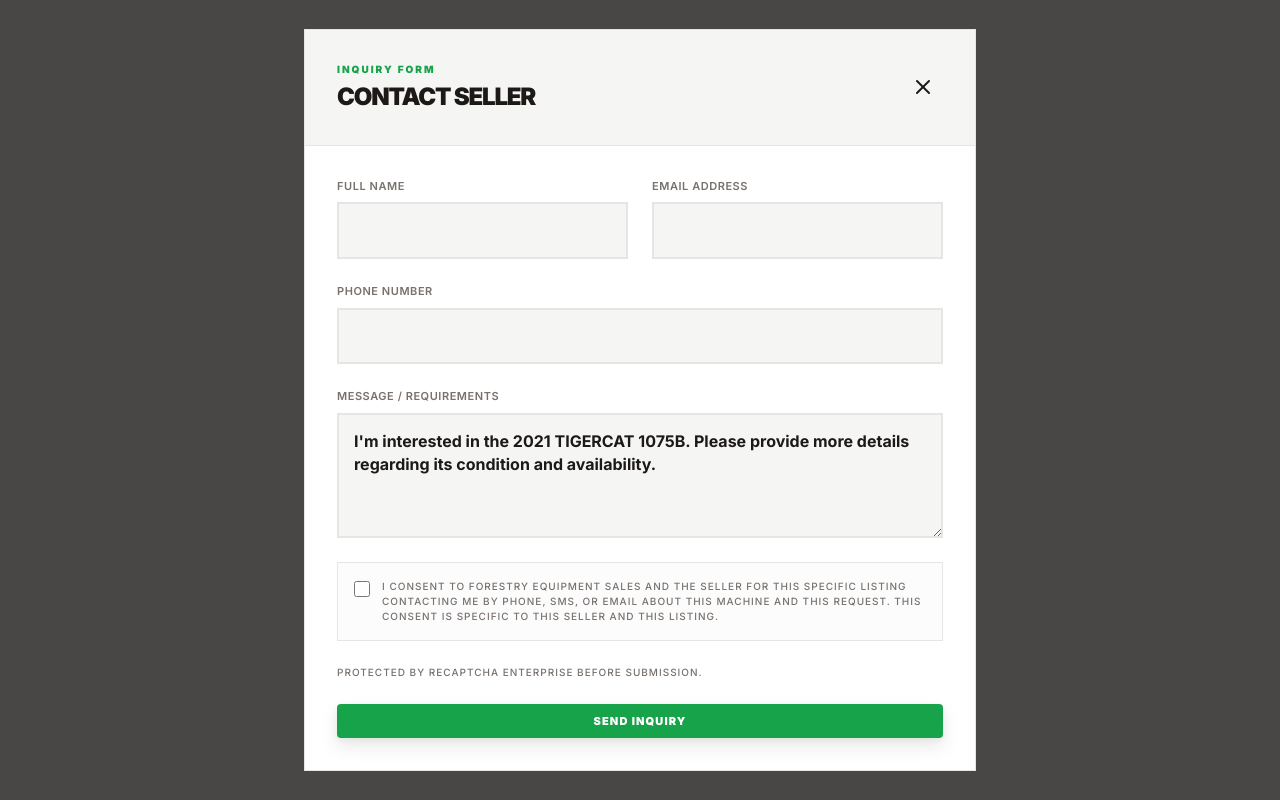
Test case: InquiryModal component › submits the inquiry and shows the success state after consent is accepted
Type "Caleb Happy" into the field labelled "Full Name" at (482, 231), box [337,202,628,259]
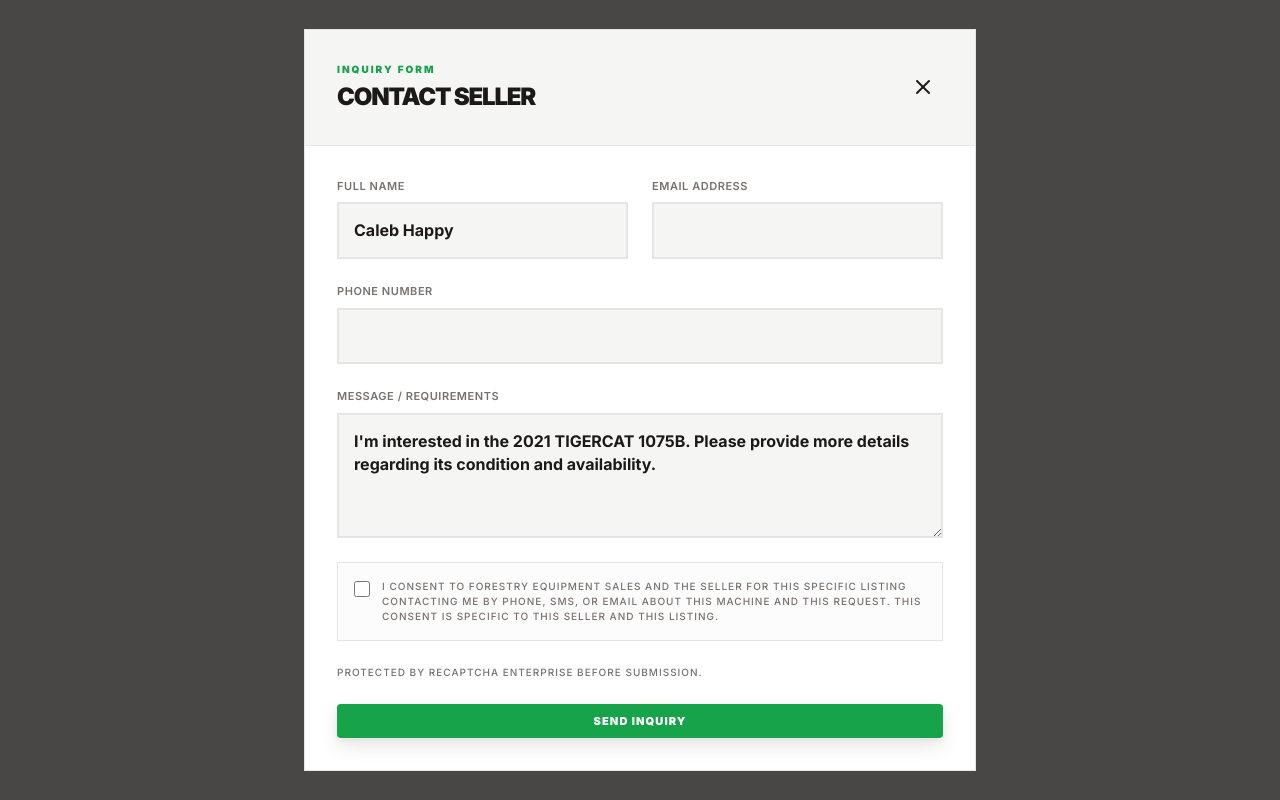
Type "admin@example.com" into the field labelled "Email Address" at (798, 231), box [652,202,943,259]
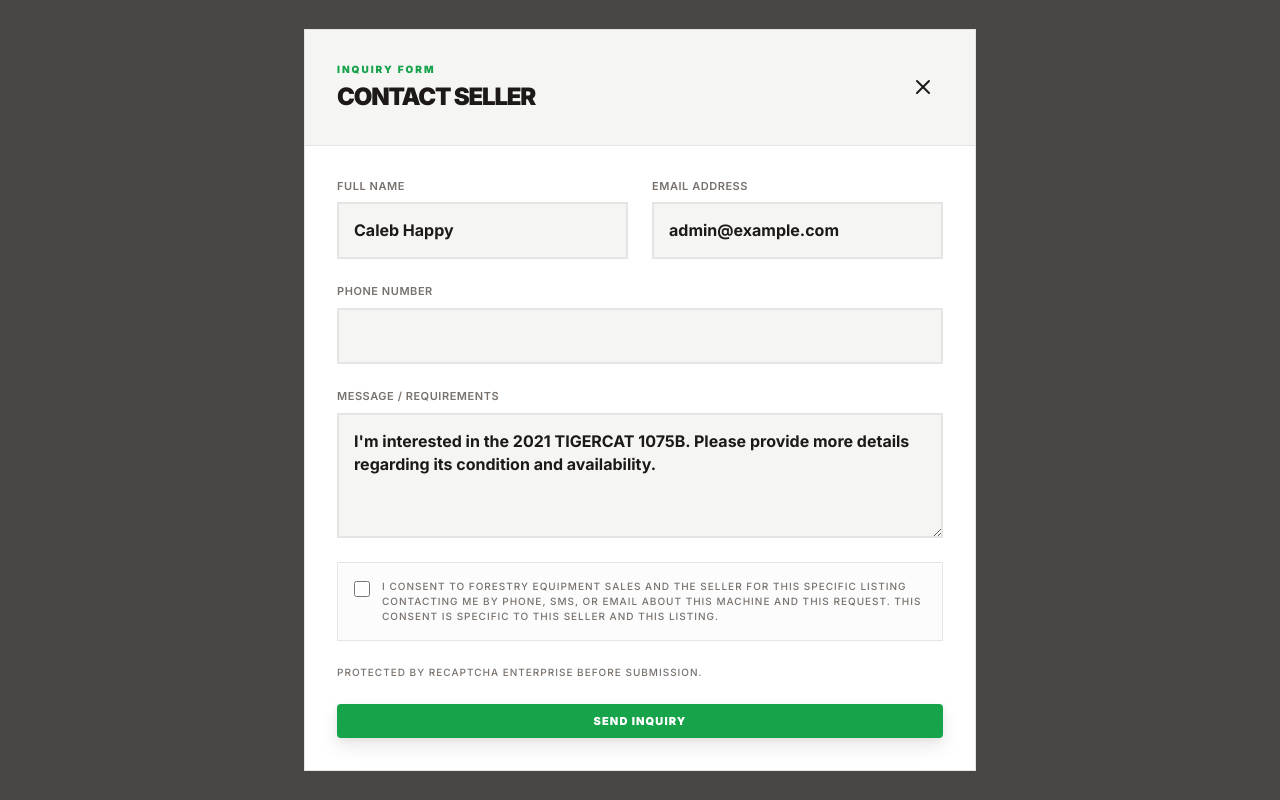
Type "+12187200933" into the field labelled "Phone Number" at (640, 336), box [337,308,943,364]
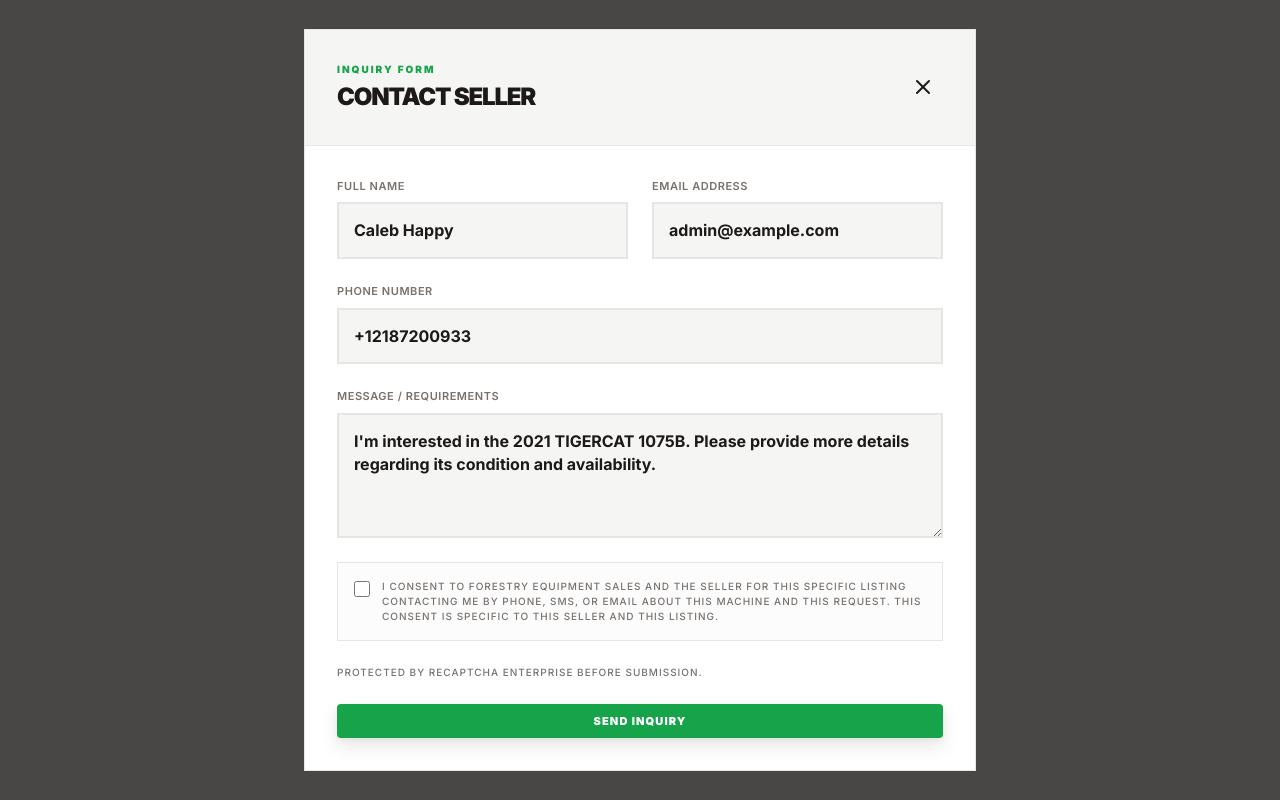
Click the checkbox at (362, 589), box [354,581,370,597]
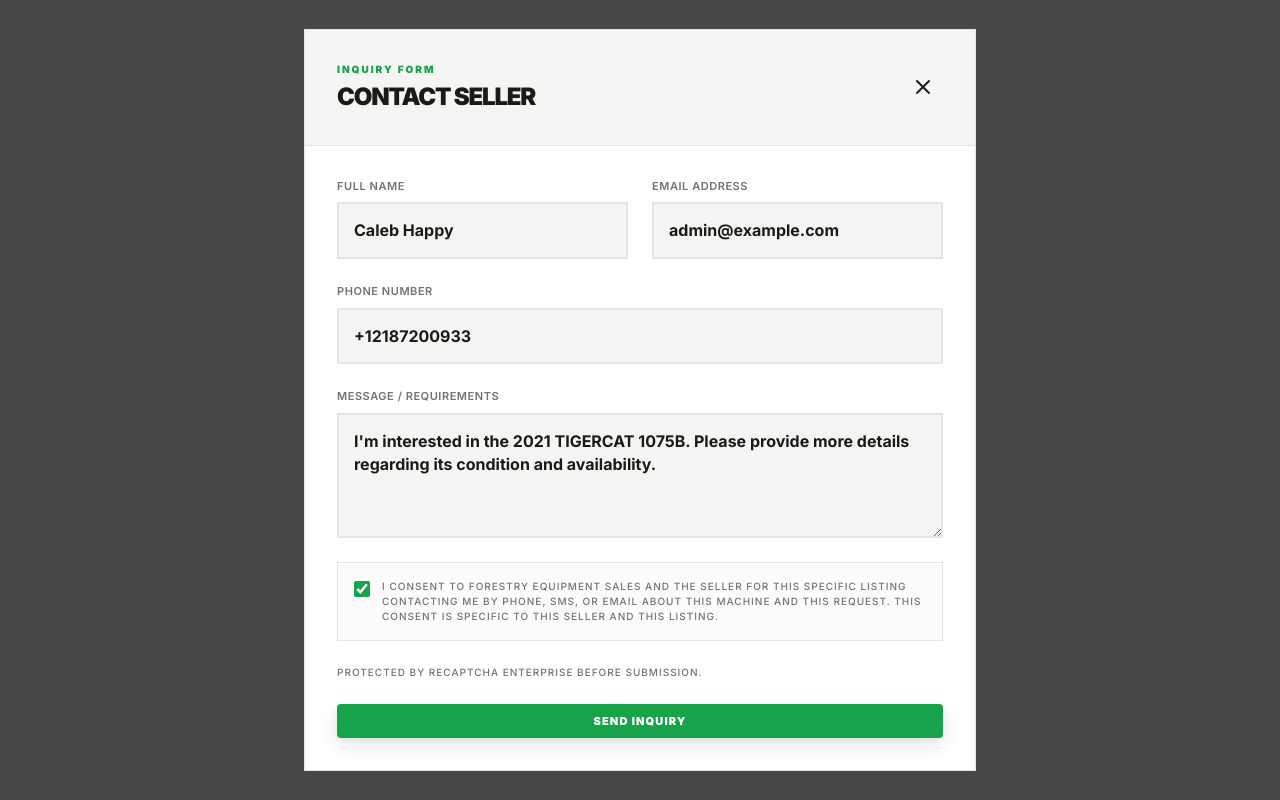
Click the button "Send Inquiry" at (640, 721), box [337,704,943,738]
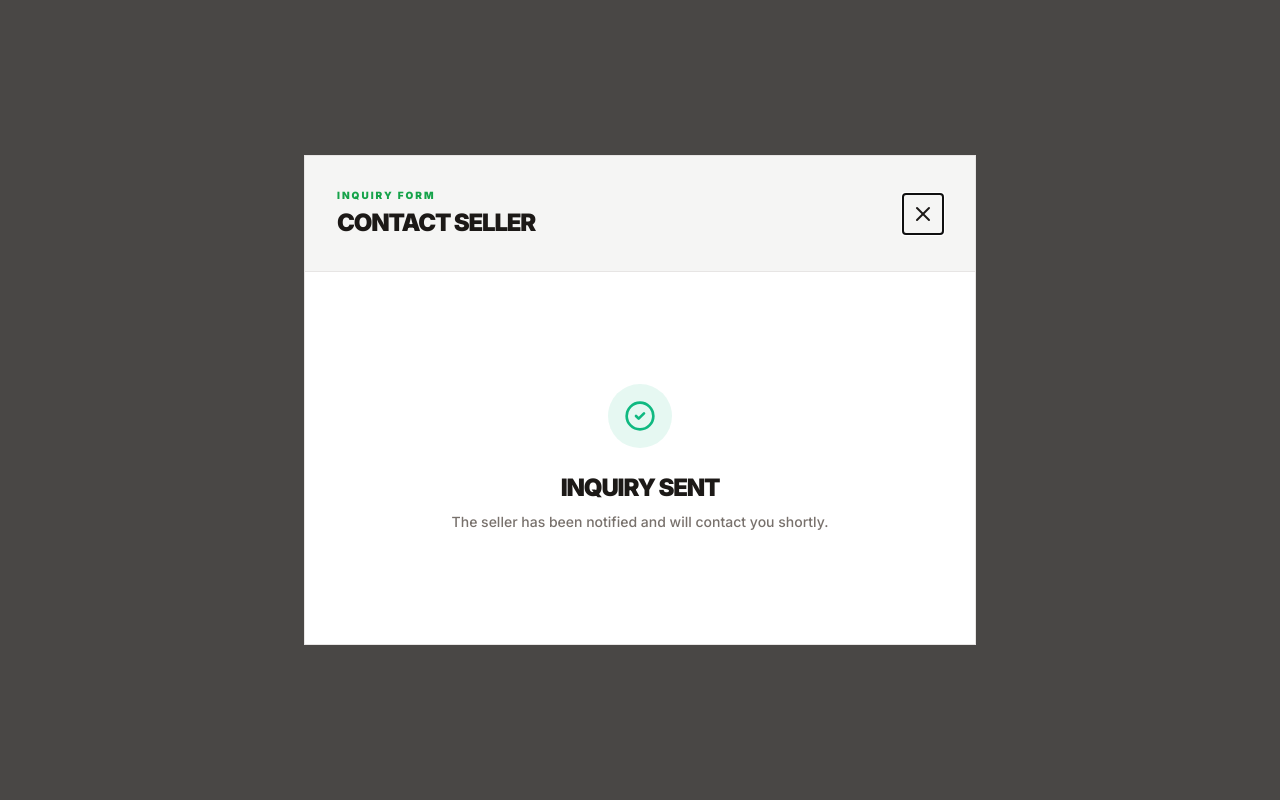
expect the heading "Inquiry Sent" is shown: met, box [561,472,719,504]
